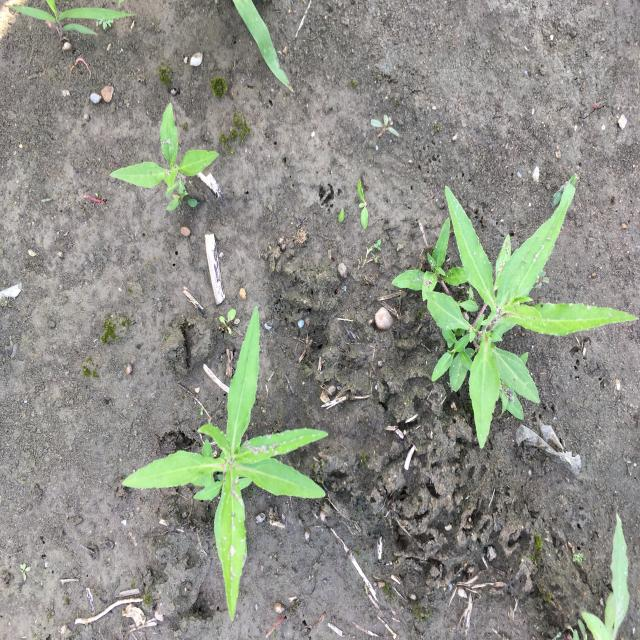Eclipta: (120, 305, 330, 624), (390, 185, 638, 451), (108, 101, 220, 213)
